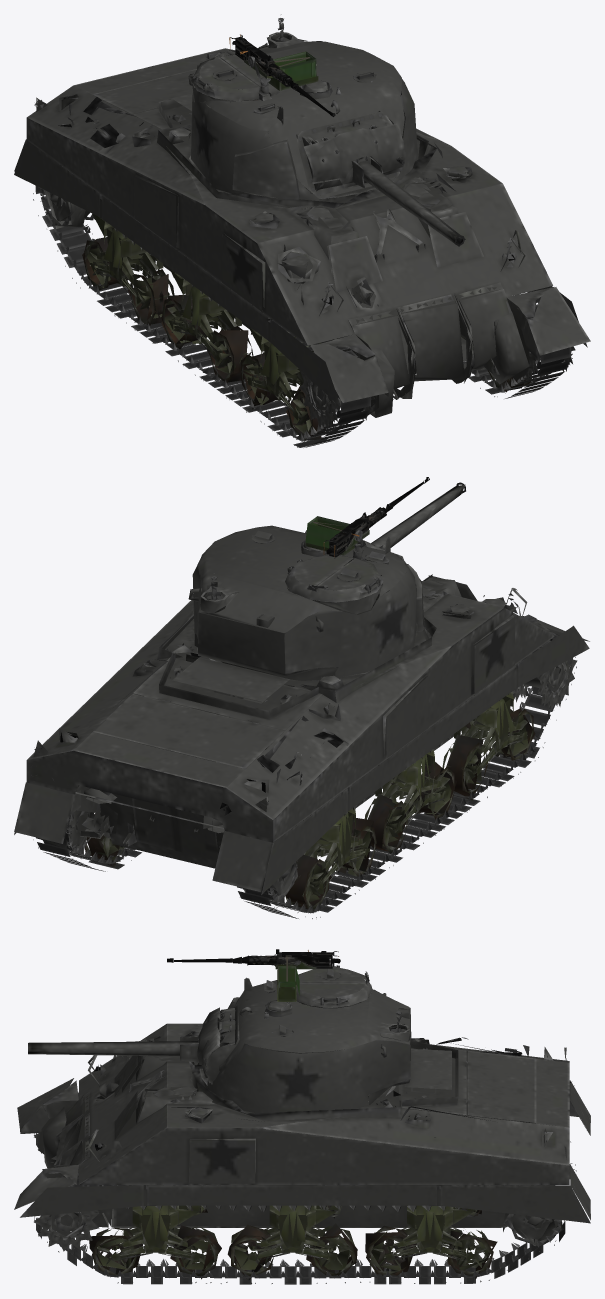
Rendered from sherman_eixo.glb.
3 renders of one model, top to bottom at view 1: azimuth 30°, elevation 25°; view 2: azimuth 150°, elevation 25°; view 3: azimuth 270°, elevation 25°, orthographic. The views are drawn at different scales.
Parts seen in each view (by area): view 1: Casco, Torre; view 2: Casco, Torre; view 3: Casco, Torre.
Boxes of the visible parts, bbox=[...] form: Casco: bbox=[14, 43, 590, 447]; Torre: bbox=[188, 14, 465, 262]; Casco: bbox=[14, 574, 589, 918]; Torre: bbox=[188, 477, 465, 749]; Casco: bbox=[14, 1023, 590, 1284]; Torre: bbox=[28, 949, 411, 1113].
Size of the model in its own units: 2.62 by 3.05 by 5.97.
1 material, 1 textured.
